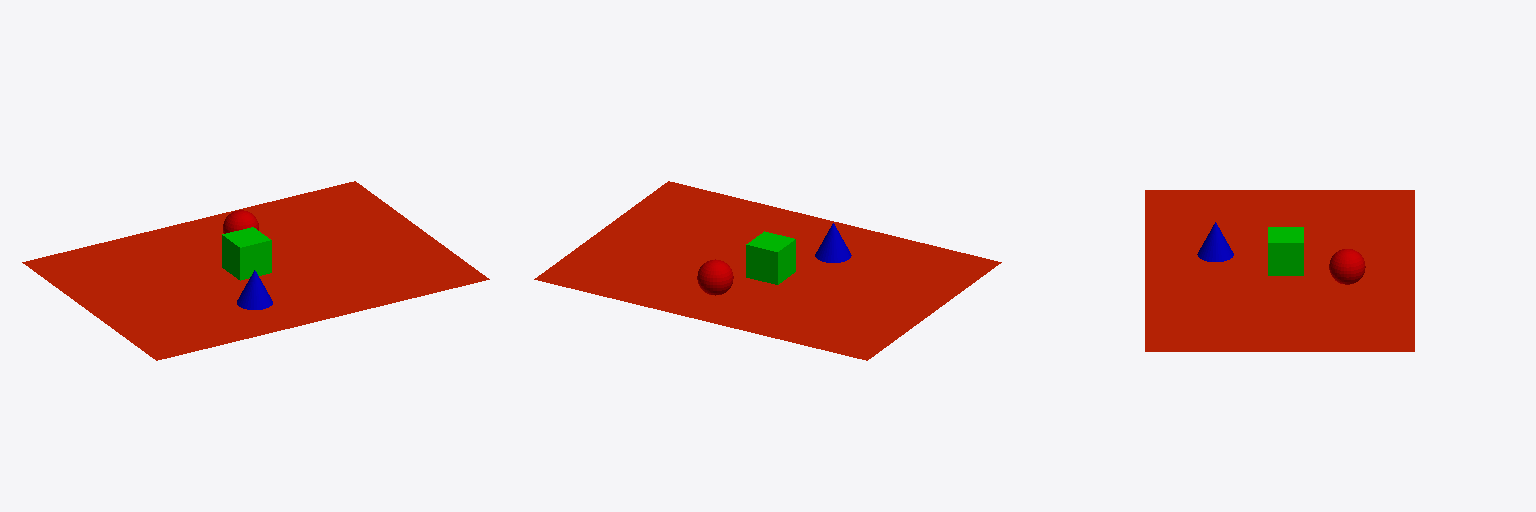
The model's file is testScene.obj.
3 renders of one model, left to right at view 1: azimuth 30°, elevation 25°; view 2: azimuth 150°, elevation 25°; view 3: azimuth 270°, elevation 25°, orthographic.
Parts seen in each view (by area): view 1: Plane, Cube_Cube.001, Cone, Sphere; view 2: Plane, Cube_Cube.001, Sphere, Cone; view 3: Plane, Cube_Cube.001, Sphere, Cone.
Part boxes in pixels (bbox=[...]): Plane: bbox=[22, 181, 489, 360]; Cube_Cube.001: bbox=[222, 227, 271, 280]; Cone: bbox=[237, 270, 272, 309]; Sphere: bbox=[223, 210, 258, 233]; Plane: bbox=[534, 181, 1001, 360]; Cube_Cube.001: bbox=[746, 231, 795, 284]; Sphere: bbox=[697, 259, 733, 295]; Cone: bbox=[815, 223, 851, 262]; Plane: bbox=[1145, 190, 1414, 351]; Cube_Cube.001: bbox=[1268, 227, 1303, 275]; Sphere: bbox=[1329, 249, 1365, 284]; Cone: bbox=[1197, 222, 1233, 261].
Size of the model in its own units: 21.15 by 2.19 by 14.78.